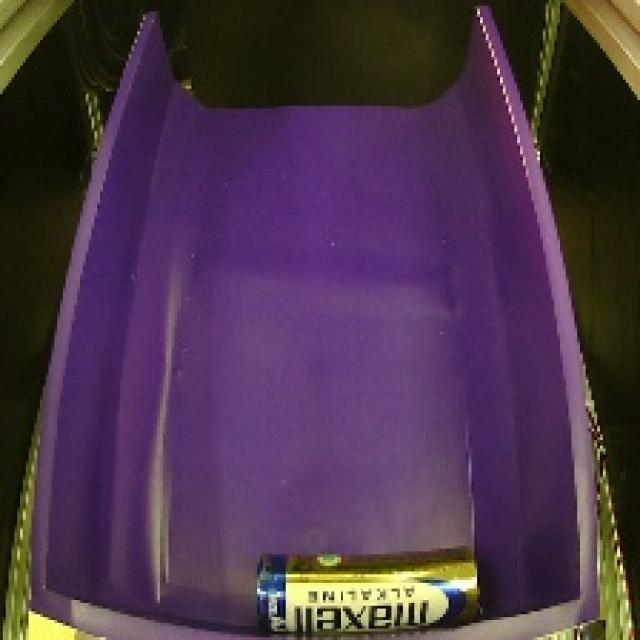battery: (237, 534, 489, 640)
